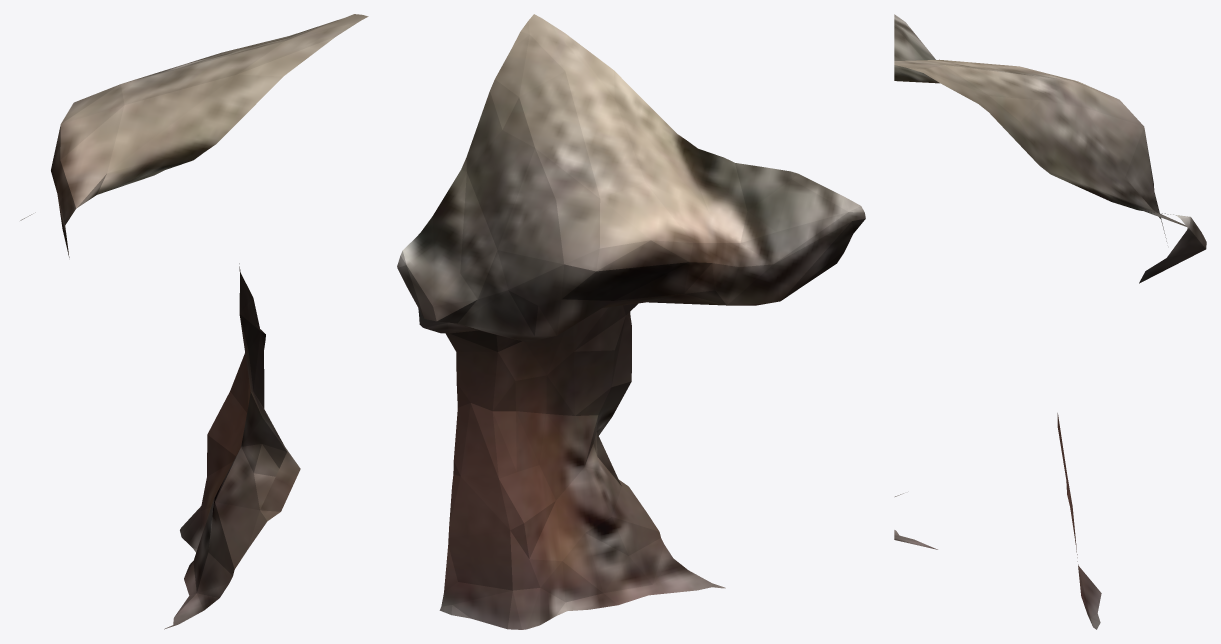
3 renders of one model, left to right at view 1: azimuth 30°, elevation 25°; view 2: azimuth 150°, elevation 25°; view 3: azimuth 270°, elevation 25°, orthographic. The views are drawn at different scales.
Bounding box in the file's own units: 0.2962 × 0.4498 × 0.2255.
Materials: 1 (1 with a texture image).
